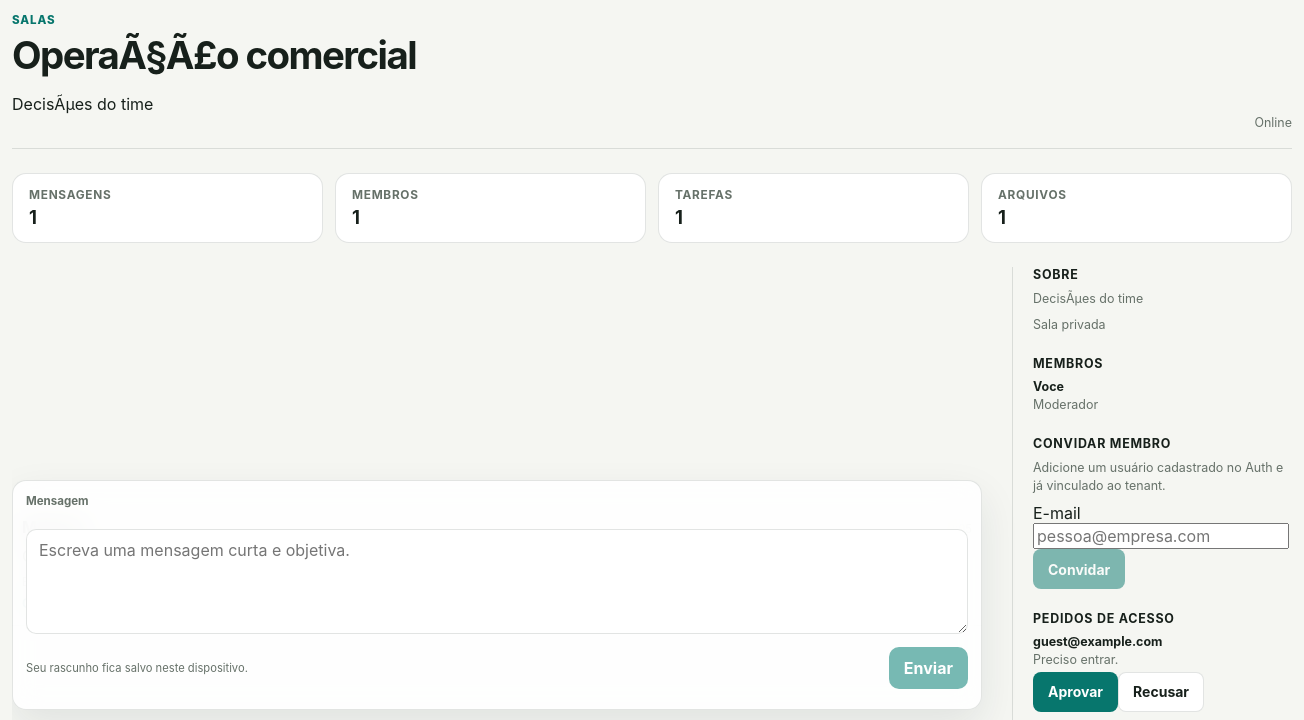
Test case: ConversationsWorkspace › performs an authoritative online refetch without losing the draft
The width and height of the screenshot is (1304, 720).
Expected: the text "Contexto confirmado" is shown, [22,546,182,566]
In the text box labelled "Mensagem": (497, 581) [26,529,968,634], type "Rascunho preservado"
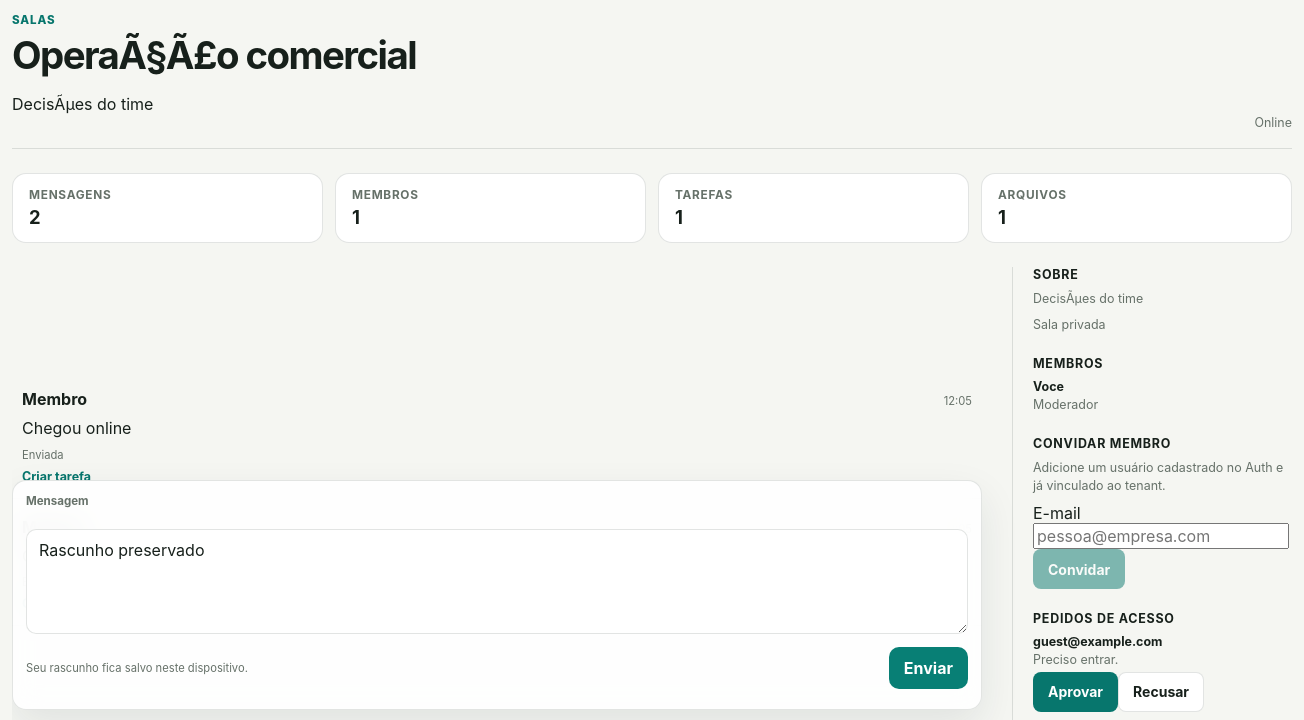
Now the text "Chegou online" is shown, box [22,418,131,438]
Now the text "Contexto confirmado" is shown once, box [22,546,182,566]
